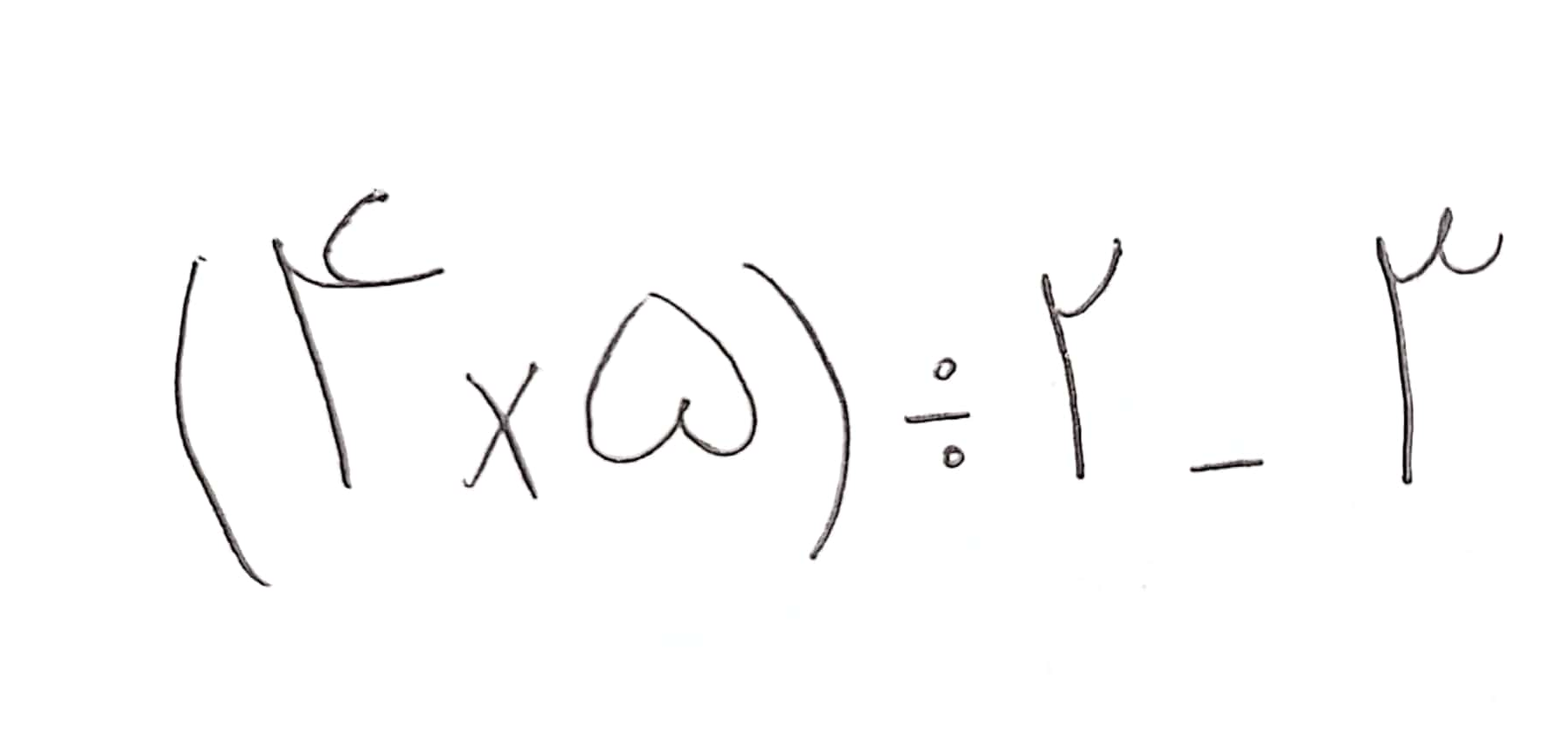character: (271, 191, 445, 489), (1375, 209, 1503, 483), (741, 262, 852, 560), (176, 256, 270, 588), (584, 292, 757, 465), (1042, 235, 1120, 477), (462, 363, 541, 498), (906, 357, 972, 469), (1189, 458, 1263, 472)
